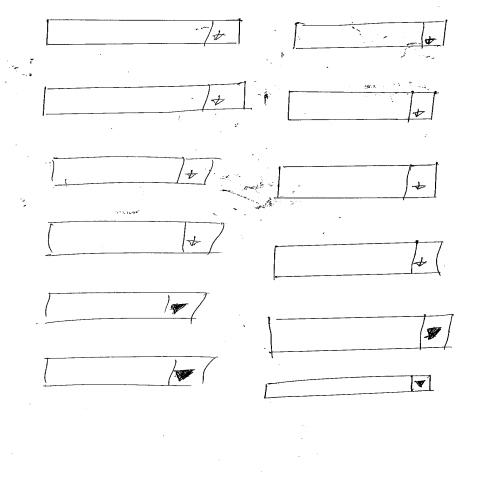Select: (267, 315, 455, 354), (42, 82, 247, 117), (272, 241, 444, 280), (45, 221, 225, 254), (278, 165, 440, 201), (43, 356, 215, 388), (46, 19, 242, 47), (48, 157, 214, 188), (44, 292, 206, 323), (287, 91, 437, 122), (292, 22, 448, 50), (264, 375, 433, 400)
